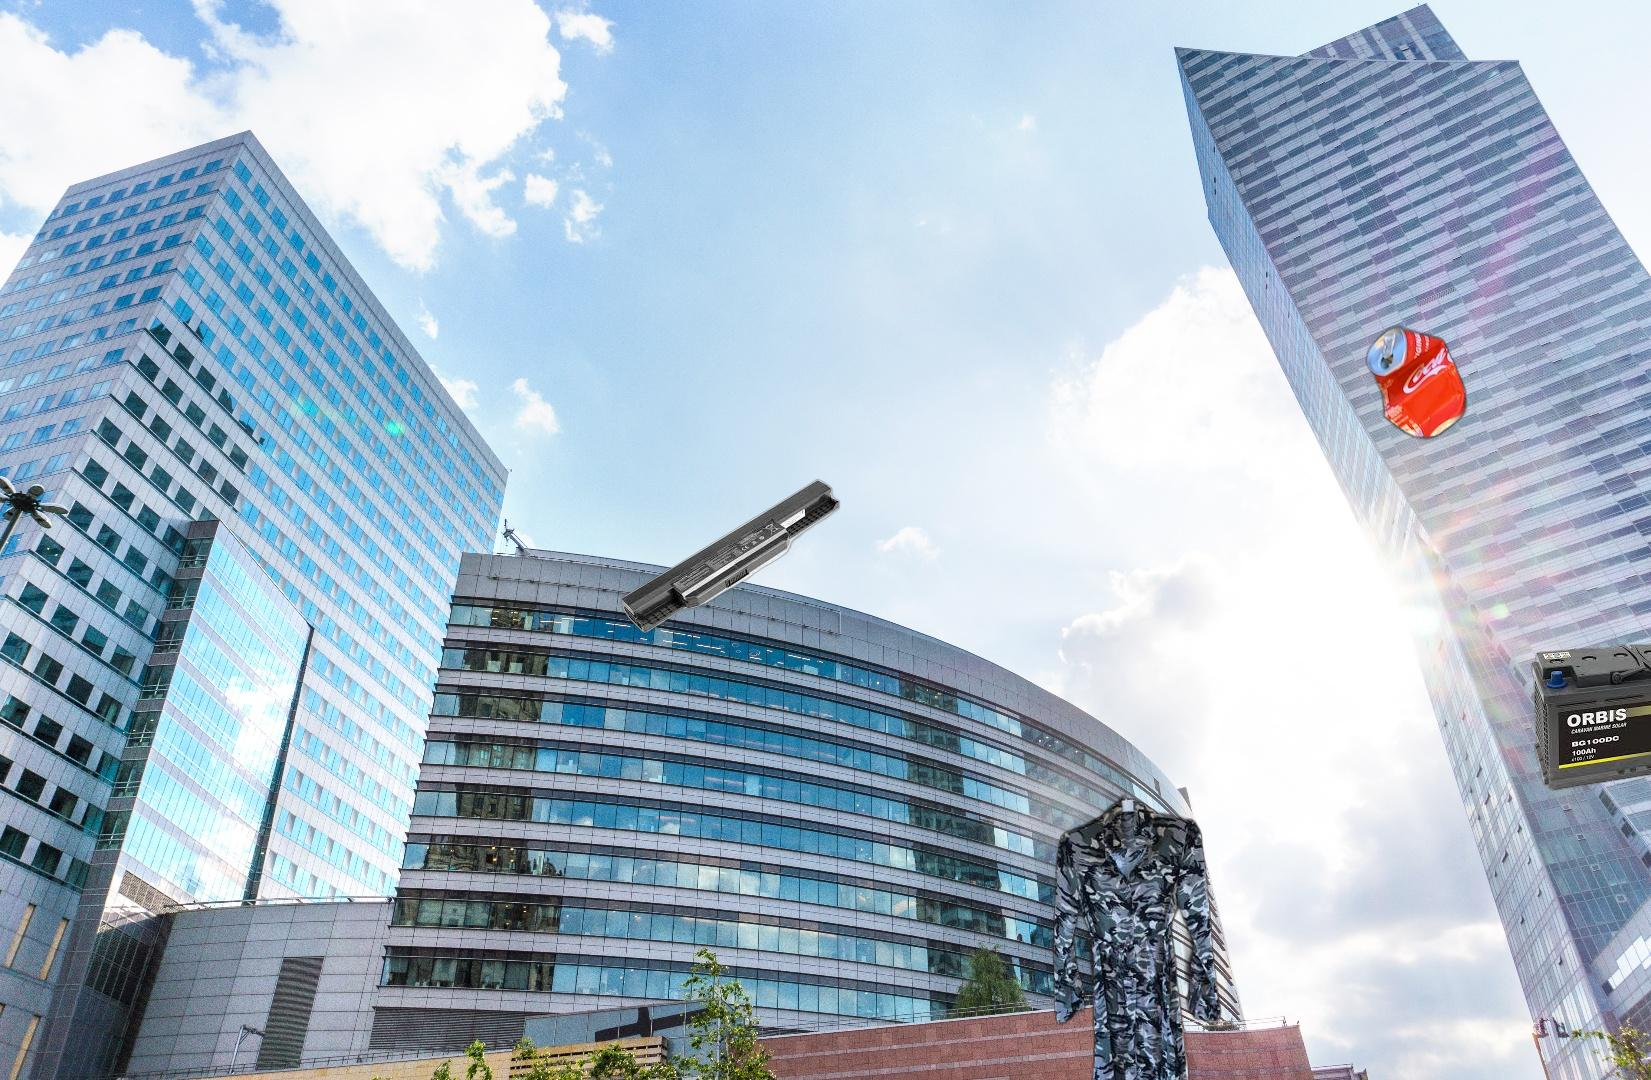battery: (621, 477, 842, 636), (1529, 634, 1651, 793)
clothes: (1048, 776, 1223, 1080)
metal-cans: (1362, 321, 1471, 444)
